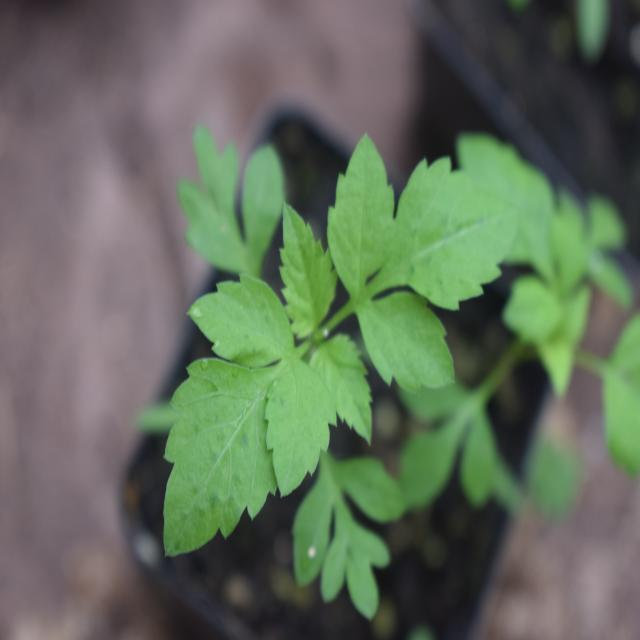Bidens pilosa: (134, 113, 519, 568)
